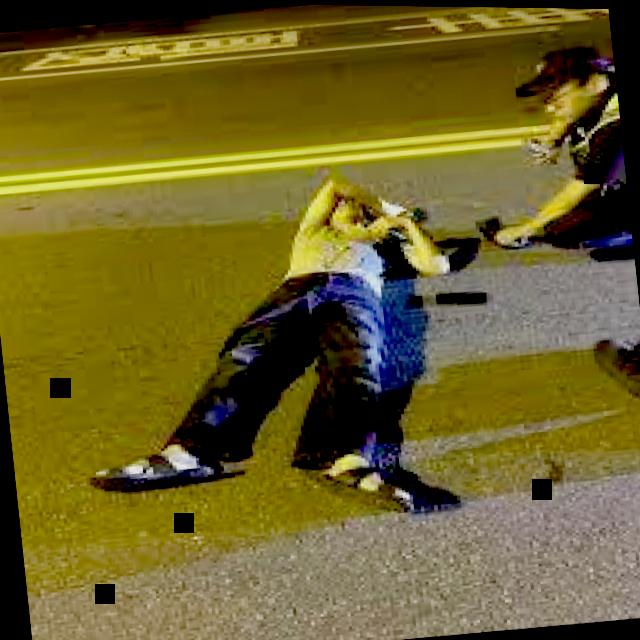Fall-Detected: (58, 132, 518, 540)
